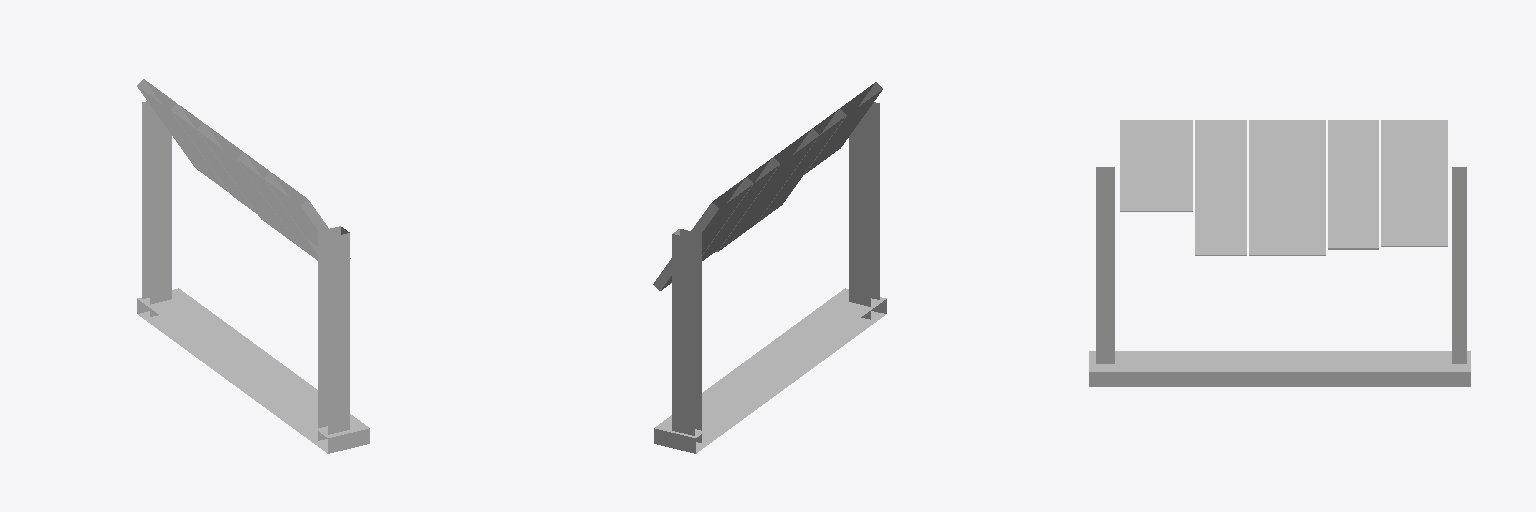
Rendered from ventana.obj.
3 renders of one model, left to right at view 1: azimuth 30°, elevation 25°; view 2: azimuth 150°, elevation 25°; view 3: azimuth 270°, elevation 25°, orthographic.
Parts seen in each view (by area): view 1: polySurface204; view 2: polySurface204; view 3: polySurface204.
Part boxes in pixels (bbox=[...]): polySurface204: bbox=[137, 79, 369, 453]; polySurface204: bbox=[653, 82, 886, 453]; polySurface204: bbox=[1089, 120, 1470, 386].
Size of the model in its own units: 0.9243 by 3.05 by 4.31.